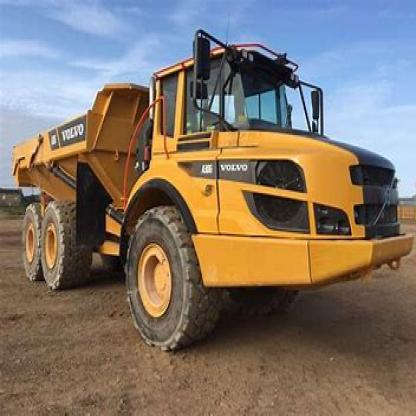dump_truck: (9, 38, 415, 358)
